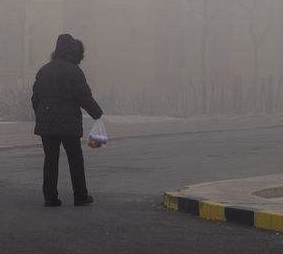person: (27, 33, 112, 207)
